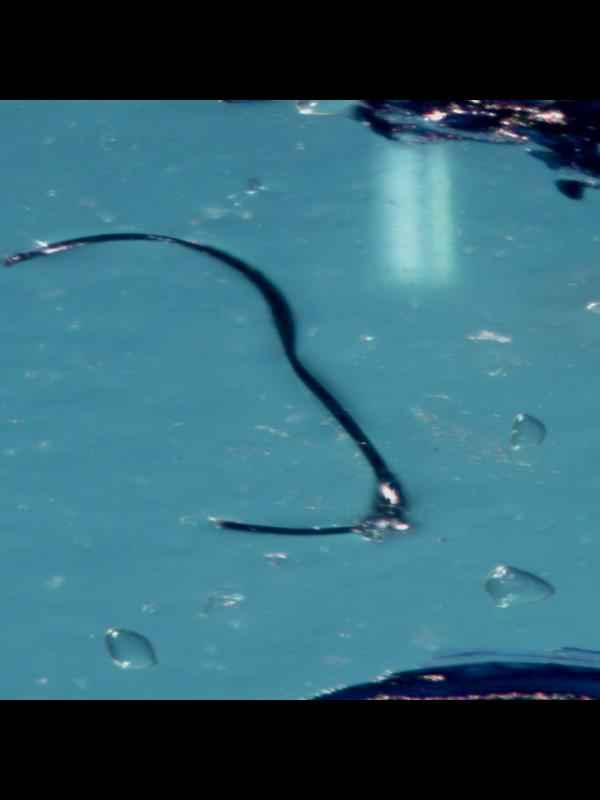microplastic: (0, 232, 417, 543)
